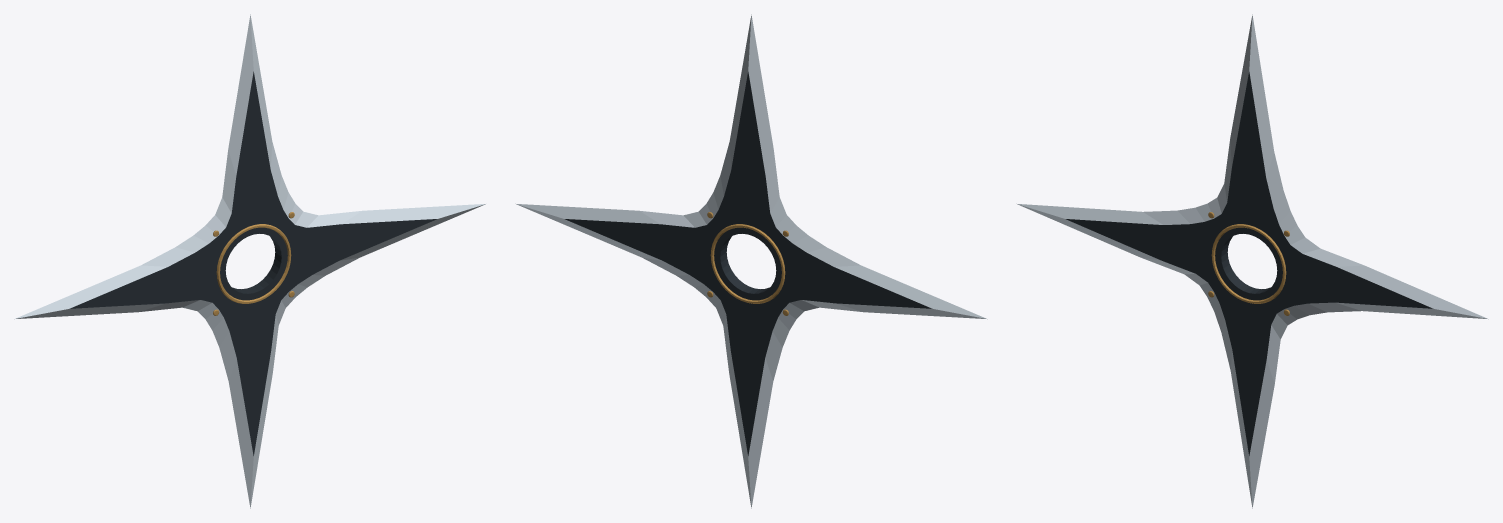
Rendered from Shuriken.fbx.
The picture shows the model from 3 angles, left to right: view 1: azimuth 30°, elevation 25°; view 2: azimuth 150°, elevation 25°; view 3: azimuth 330°, elevation 25°; orthographic projection.
Parts seen in each view (by area): view 1: Shuriken; view 2: Shuriken; view 3: Shuriken.
Part boxes in pixels (left/top/right/bottom): Shuriken: left=14, top=14, right=486, bottom=508; Shuriken: left=515, top=14, right=987, bottom=508; Shuriken: left=1016, top=14, right=1488, bottom=508.
Size of the model in its own units: 18.6 by 18.6 by 0.5826.
